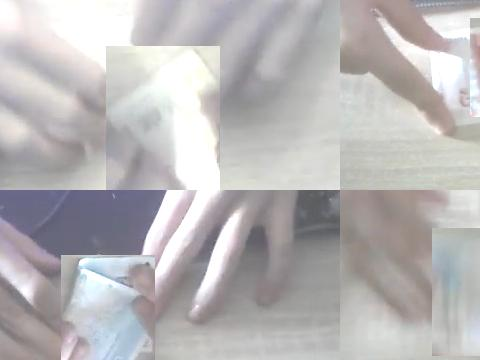10leva: (106, 46, 220, 190)
20leva: (61, 255, 155, 360), (432, 234, 480, 356)
